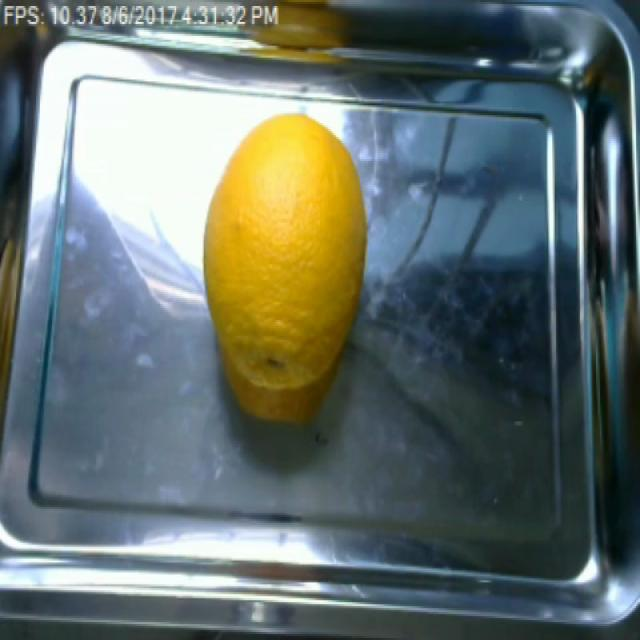Fruit: (193, 110, 371, 420)
